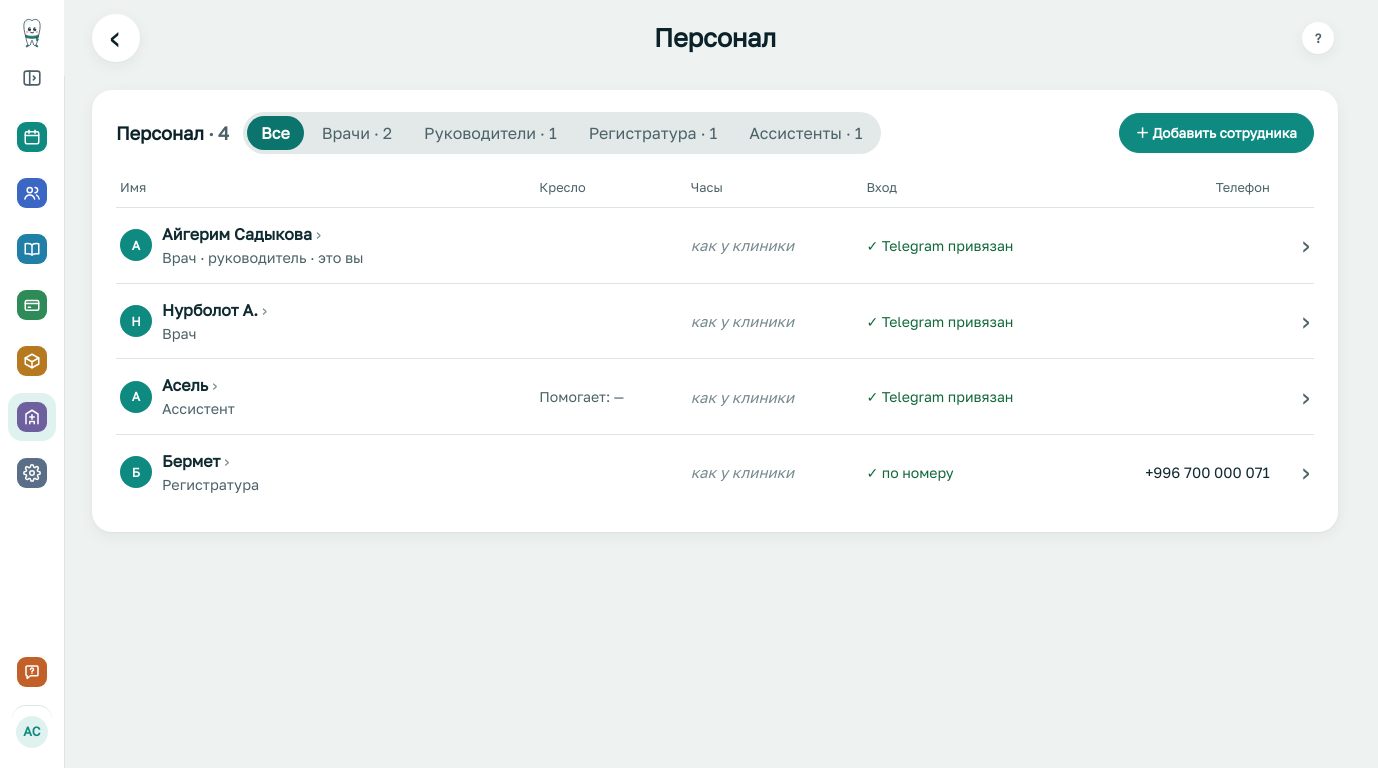
Test: карточка сотрудника: «Сменить Telegram» → ссылка, которую отправить ему (WhatsApp, скопировать)
The image size is (1378, 768).
Click the button "Асель" at (190, 385), box [162,373,217,397]
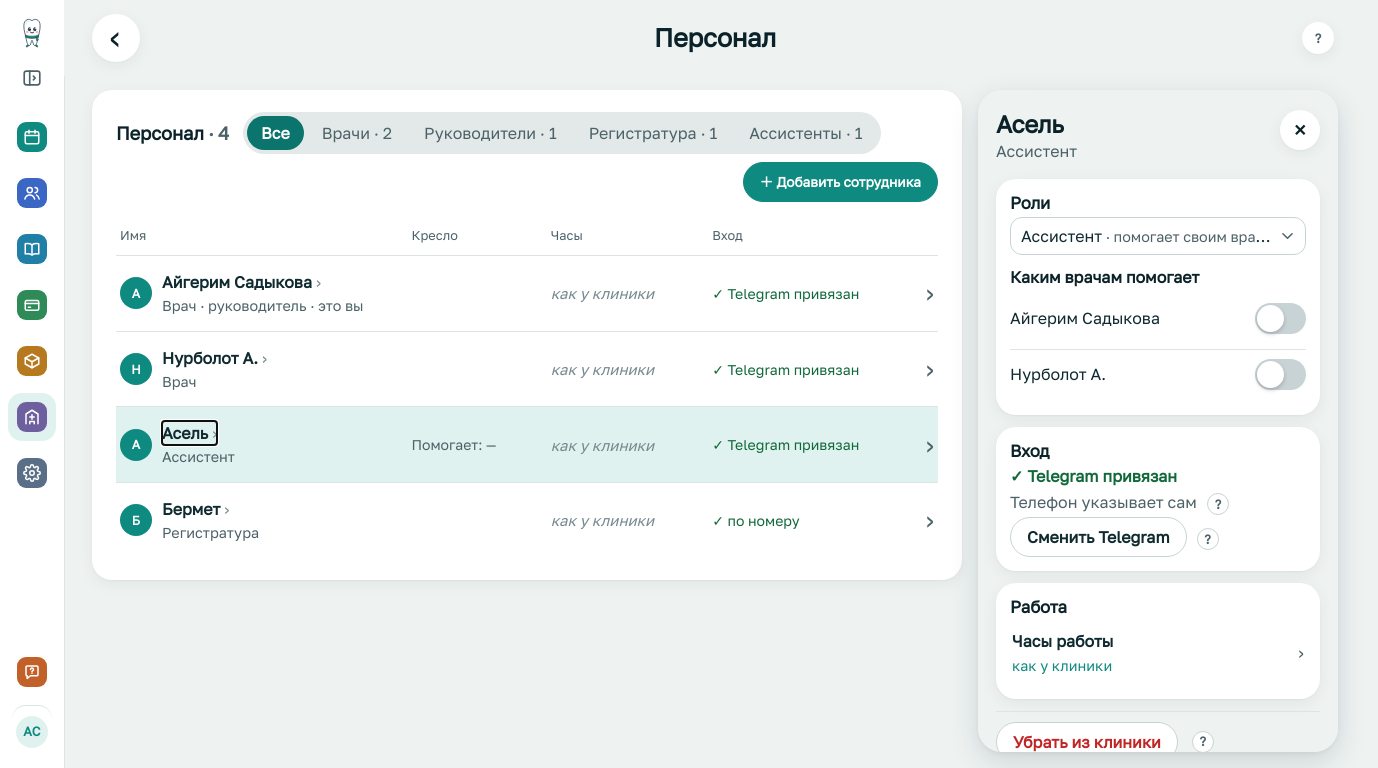
Click the button "Сменить Telegram" at (1098, 537), box [1010,517,1187,557]
(page scrolled)
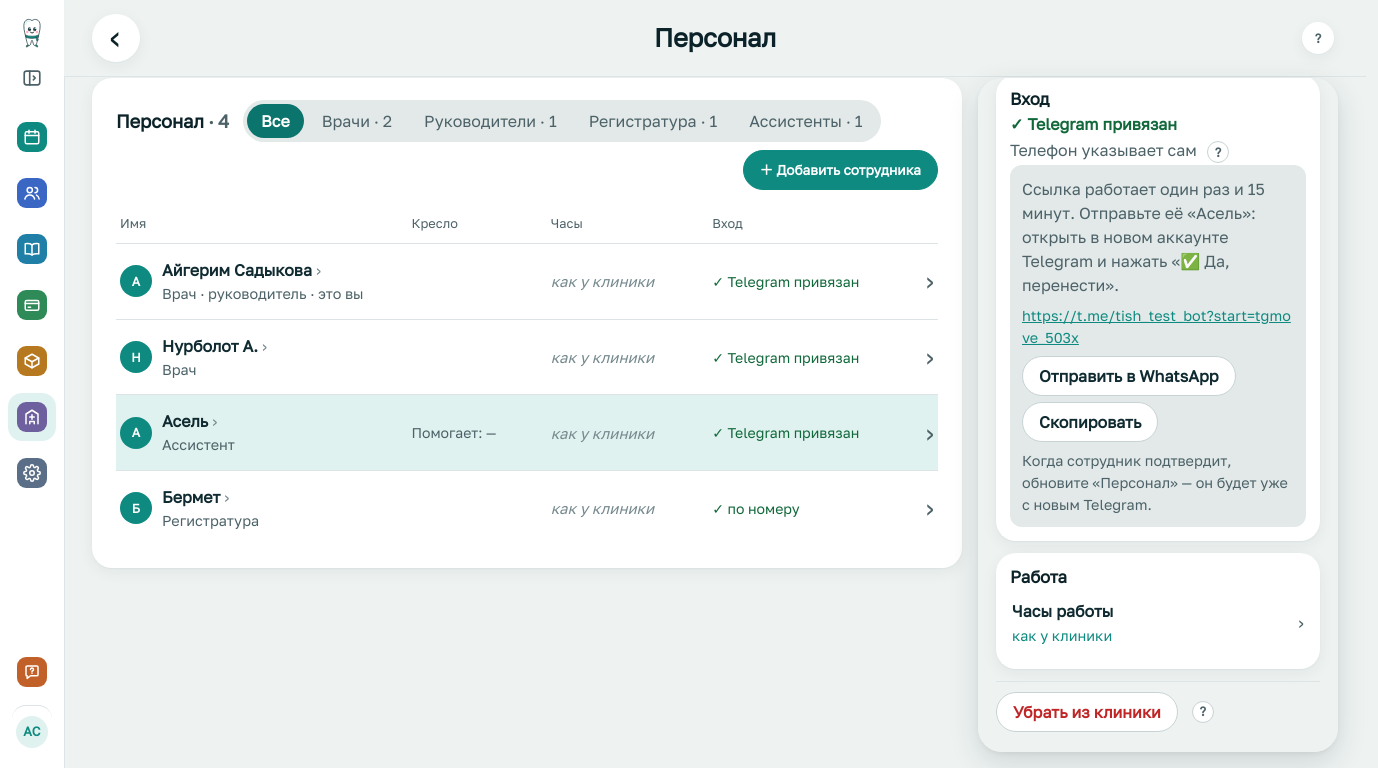
Now the link "https://t.me/tish_test_bot?start=tgmove_503x" is shown, box [1022,305,1294,348]
Now the element "Вход" shows "Ссылка работает один раз и 15 минут", box [1022,179,1265,223]
Now the element "Вход" shows "«✅ Да, перенести»", box [1022,203,1256,295]
